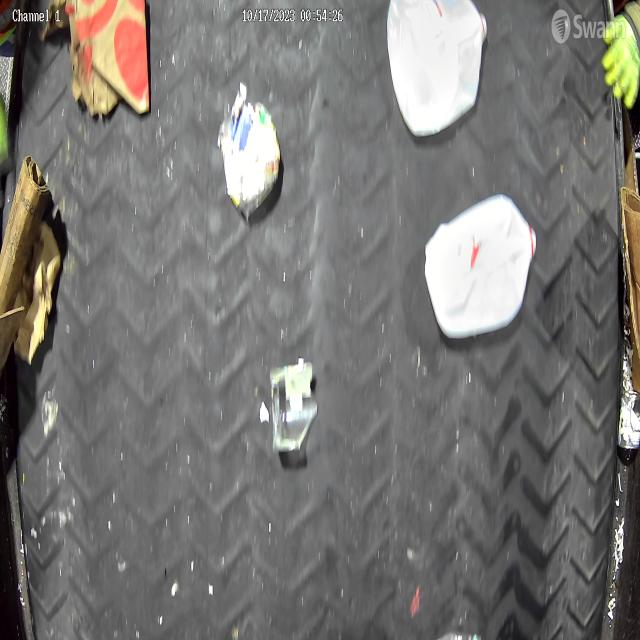can: (617, 388, 640, 450)
milk_jug: (424, 191, 538, 338), (386, 0, 486, 139)
